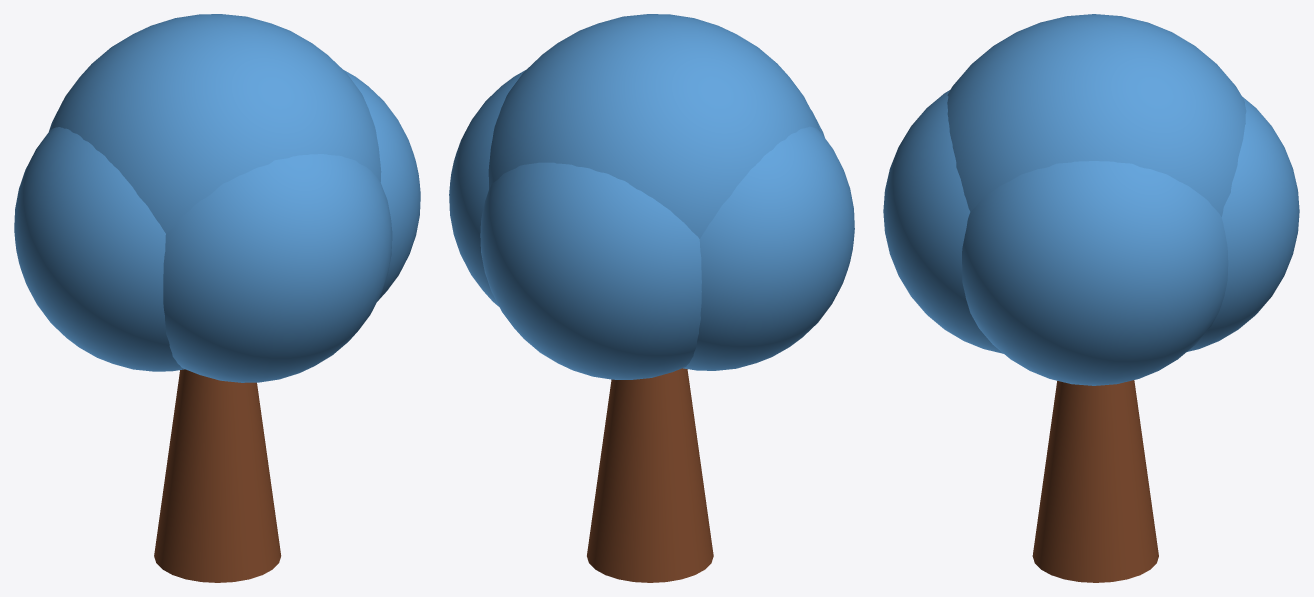
Rendered from SadnessLv1.glb.
3 views of the same model, side by side, from view 1: azimuth 30°, elevation 25°; view 2: azimuth 150°, elevation 25°; view 3: azimuth 270°, elevation 25° (orthographic).
Visible parts, largest first — view 1: GeoSphere052, GeoSphere056, GeoSphere054, Cone215, GeoSphere053; view 2: GeoSphere052, GeoSphere055, GeoSphere054, Cone215, GeoSphere053; view 3: GeoSphere053, GeoSphere052, Cone215, GeoSphere056, GeoSphere055.
Part boxes in pixels (bbox=[...]): GeoSphere052: bbox=[49, 14, 381, 233]; GeoSphere056: bbox=[163, 154, 392, 382]; GeoSphere054: bbox=[14, 127, 184, 371]; Cone215: bbox=[154, 369, 281, 582]; GeoSphere053: bbox=[344, 70, 420, 301]; GeoSphere052: bbox=[488, 14, 820, 238]; GeoSphere055: bbox=[480, 162, 701, 379]; GeoSphere054: bbox=[683, 126, 854, 370]; Cone215: bbox=[587, 368, 713, 582]; GeoSphere053: bbox=[449, 70, 525, 306]; GeoSphere053: bbox=[962, 161, 1228, 385]; GeoSphere052: bbox=[947, 14, 1246, 216]; Cone215: bbox=[1032, 380, 1158, 582]; GeoSphere056: bbox=[883, 90, 1003, 353]; GeoSphere055: bbox=[1187, 97, 1299, 351].
Size of the model in its own units: 0.3704 by 0.5074 by 0.3653.
